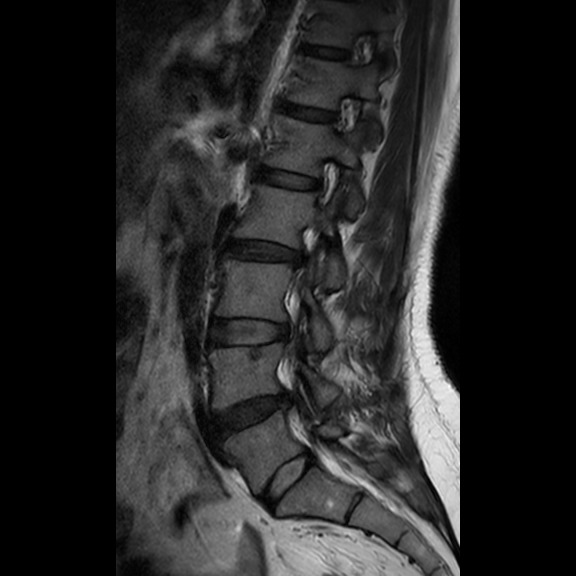LFS0: (299, 150, 351, 218)
